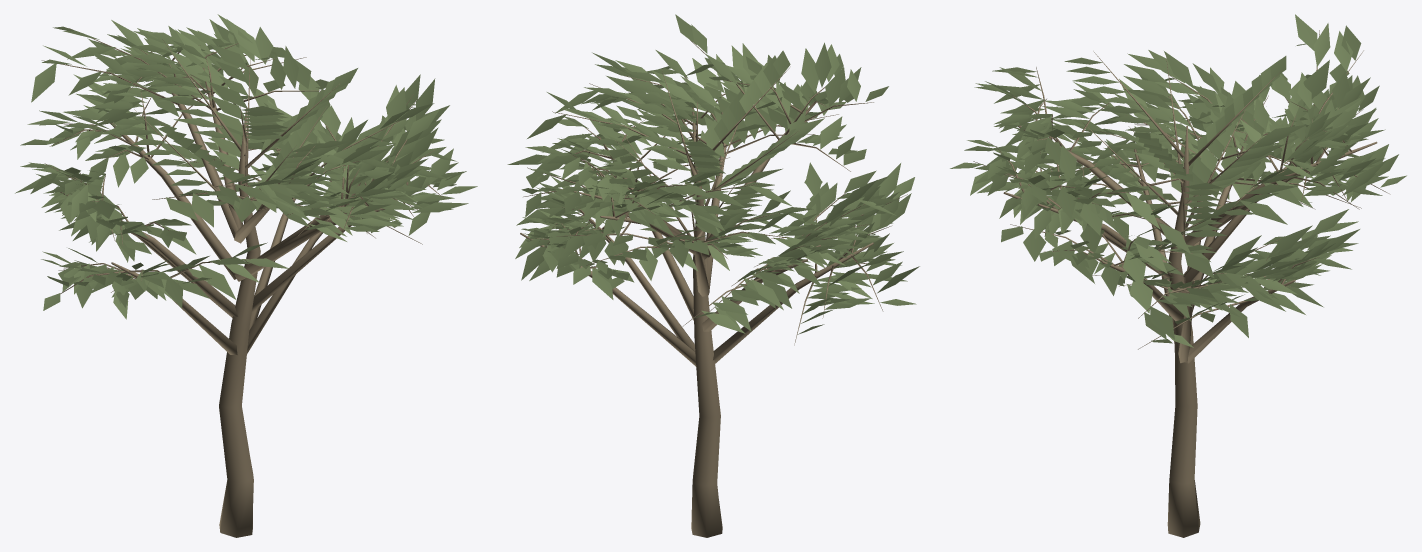
The model's file is coastal-tree.glb.
The picture shows the model from 3 angles, left to right: view 1: azimuth 30°, elevation 25°; view 2: azimuth 150°, elevation 25°; view 3: azimuth 270°, elevation 25°; orthographic projection. The views are drawn at different scales.
Visible parts, largest first — view 1: foliage_1, branches_1; view 2: foliage_1, branches_1; view 3: foliage_1, branches_1.
Part boxes in pixels (x1,y1,x2,y2): foliage_1: (15,14,477,319); branches_1: (41,28,444,537); foliage_1: (507,14,919,334); branches_1: (520,40,907,537); foliage_1: (950,14,1406,347); branches_1: (973,30,1390,537).
Bounding box in the file's own units: 3.99 × 4.44 × 4.02.
